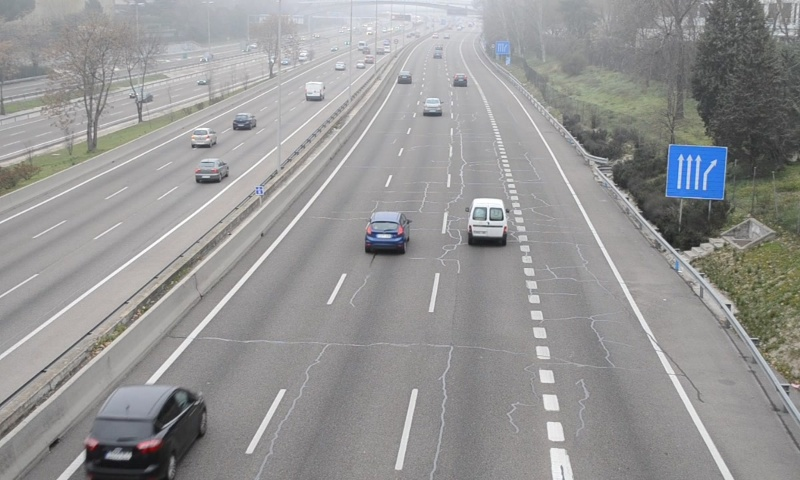car: (83, 387, 204, 480), (364, 212, 410, 254), (422, 98, 442, 115), (397, 70, 412, 85), (452, 73, 468, 87)
van: (467, 199, 508, 245)
